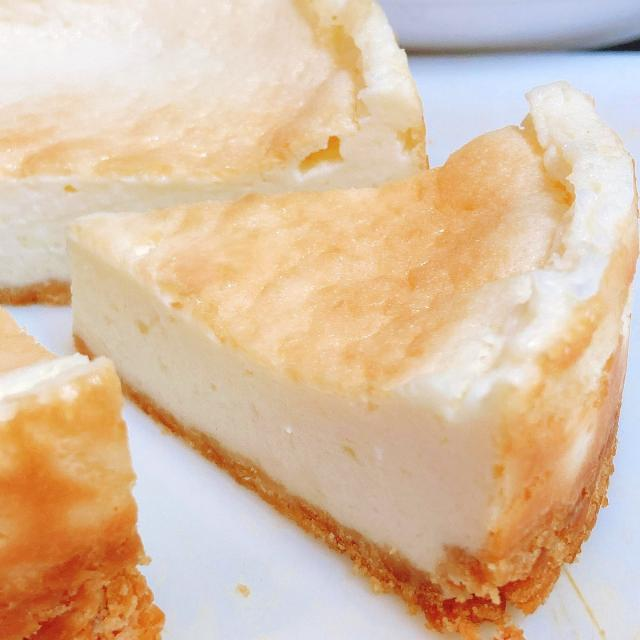cheesecake: (61, 75, 640, 640)
